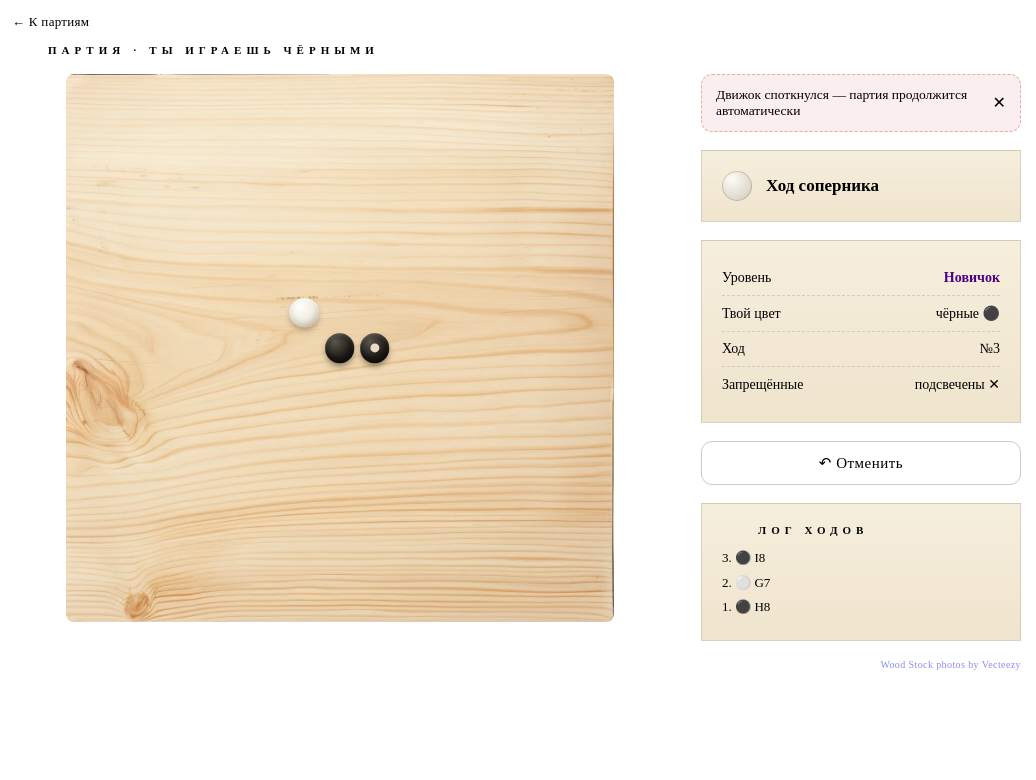
notice отображается и закрывается
Check: the text "Партия · ты играешь чёрными" is shown, box [48,44,379,56]
Check: the message shows "Движок споткнулся", box [716,87,967,118]
Click the button named "закрыть": (999, 103) [993,95,1006,111]
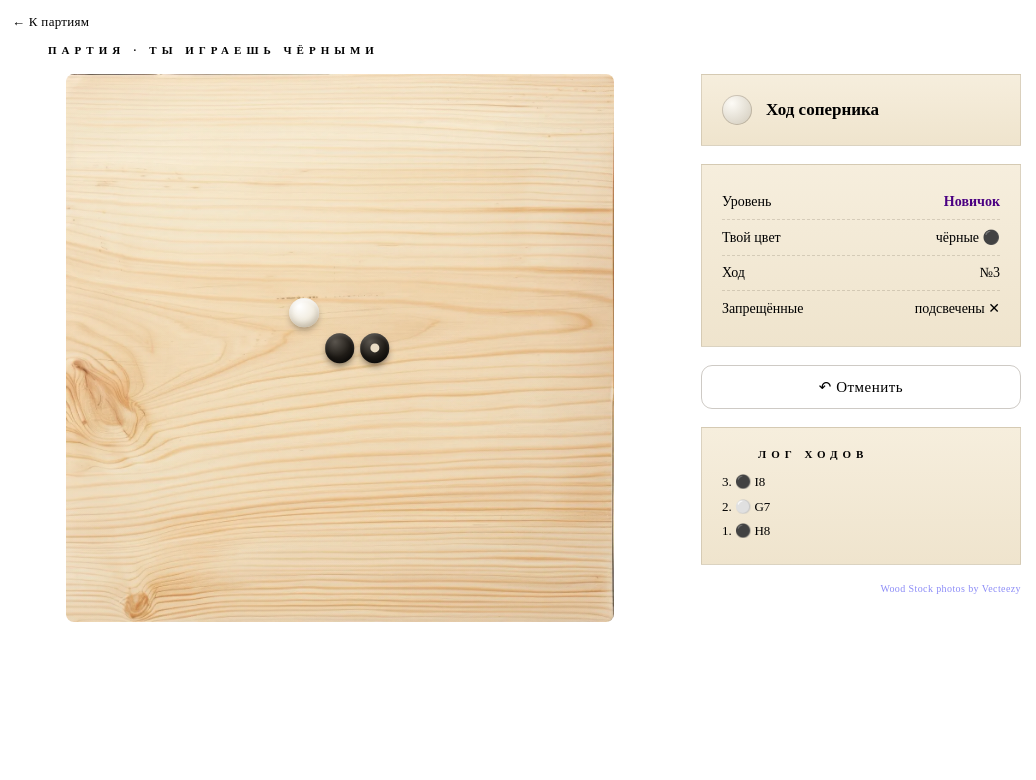
Check: the message "Движок споткнулся — партия продолжится автоматически ✕" is gone
